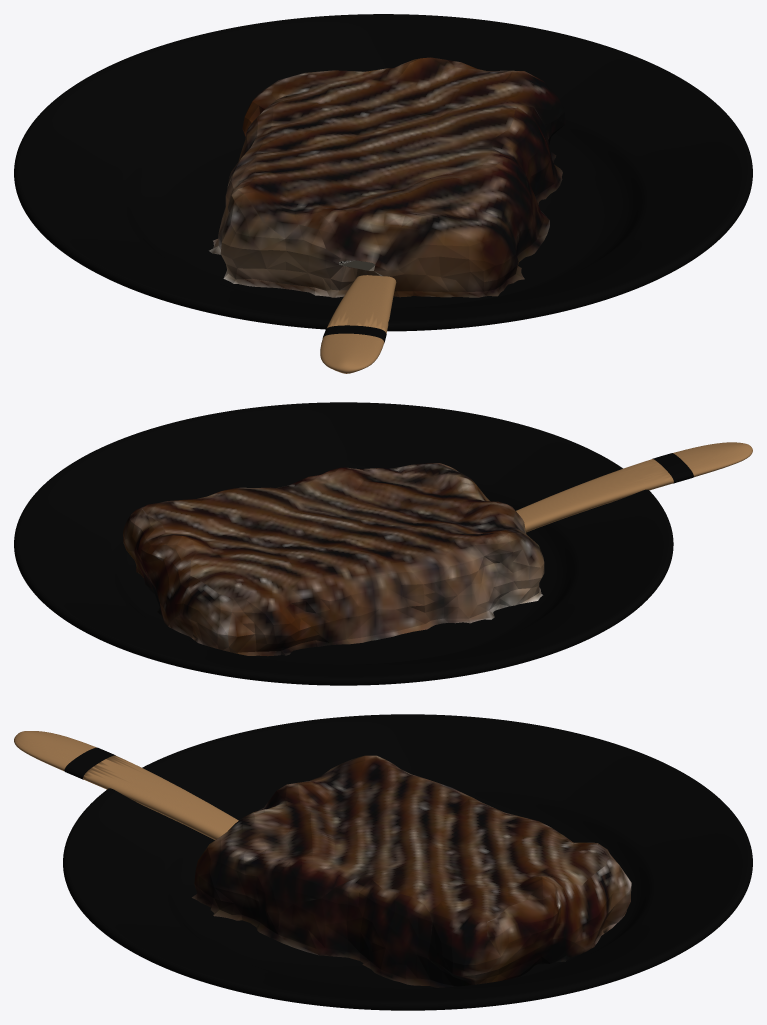
Rendered from Naughty Nutella.glb.
3 renders of one model, top to bottom at view 1: azimuth 30°, elevation 25°; view 2: azimuth 150°, elevation 25°; view 3: azimuth 270°, elevation 25°, orthographic. The views are drawn at different scales.
Parts seen in each view (by area): view 1: plate, Mesh_0, Box02, Box004; view 2: plate, Mesh_0, Box02, Box004, Box003; view 3: plate, Mesh_0, Box02, Box004, Box003.
Part boxes in pixels (x1,y1,x2,y2): plate: (14, 14, 752, 331); Mesh_0: (209, 57, 565, 297); Box02: (327, 275, 396, 333); Box004: (320, 333, 384, 373); plate: (14, 402, 673, 685); Mesh_0: (123, 463, 544, 656); Box02: (516, 459, 673, 532); Box004: (673, 442, 752, 477); Box003: (652, 453, 693, 483); plate: (63, 714, 752, 1010); Mesh_0: (192, 755, 631, 987); Box02: (83, 755, 238, 839); Box004: (14, 731, 96, 770); Box003: (64, 747, 115, 779).
Bounding box in the file's own units: 0.148 × 0.0212 × 0.1585.
4 materials, 2 textured.
